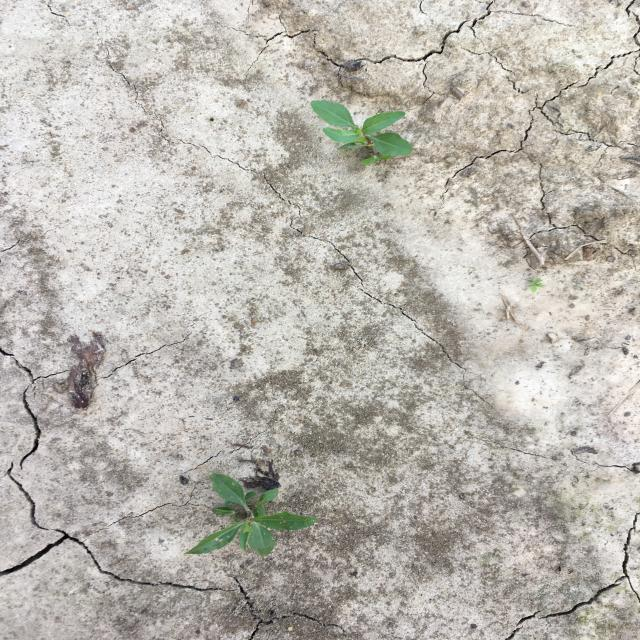Eclipta: (182, 472, 321, 559), (309, 99, 416, 168)
